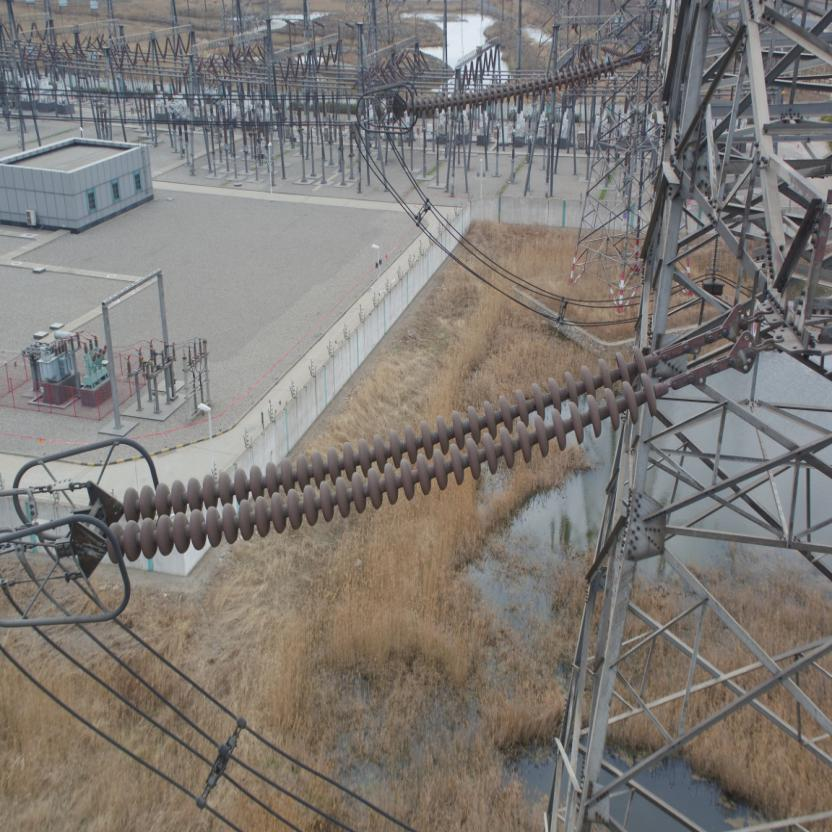insulator: (95, 340, 702, 572), (399, 51, 625, 117)
